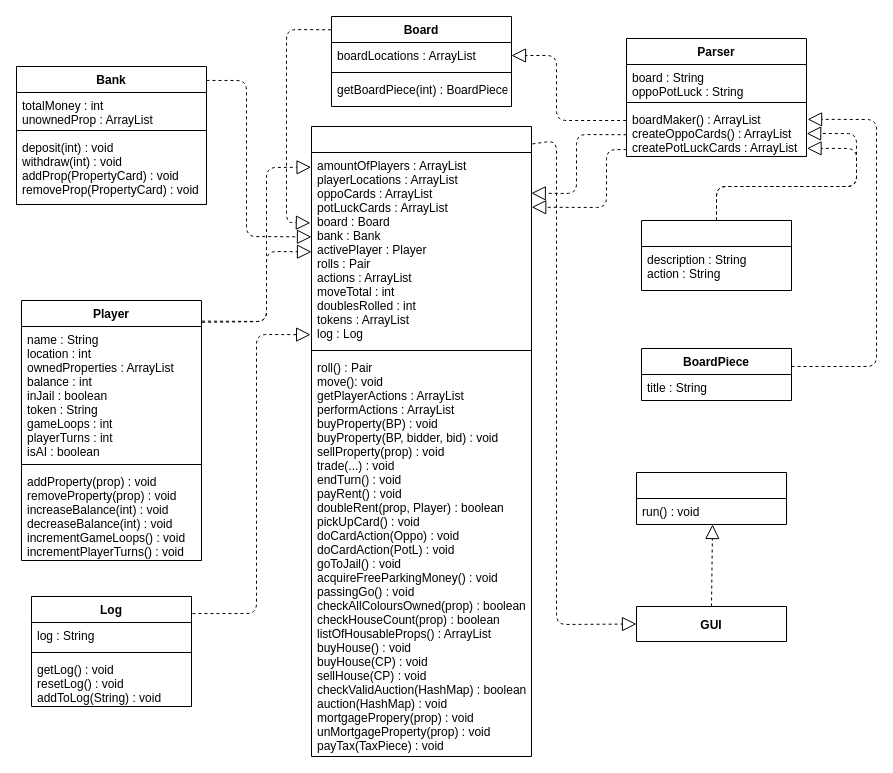
Some shapes in this 893 by 773 pixel diagram are drawn without their labels. Here are the shapes that lost their labels. From the top down, the box of each, then its label:
(640, 220, 792, 290): Card
(310, 126, 532, 756): GameController
(636, 472, 786, 524): Game
